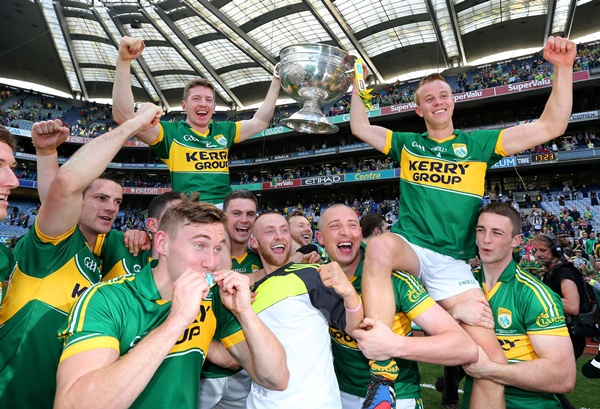player: (374, 60, 497, 361), (303, 208, 447, 380), (112, 196, 241, 388), (462, 203, 572, 404), (241, 206, 347, 398), (42, 157, 129, 362), (149, 68, 247, 220), (218, 187, 260, 255)
